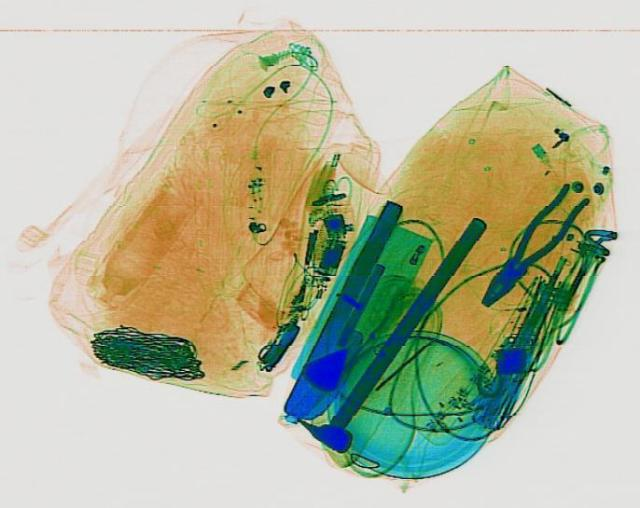Pliers: (464, 178, 596, 312)
